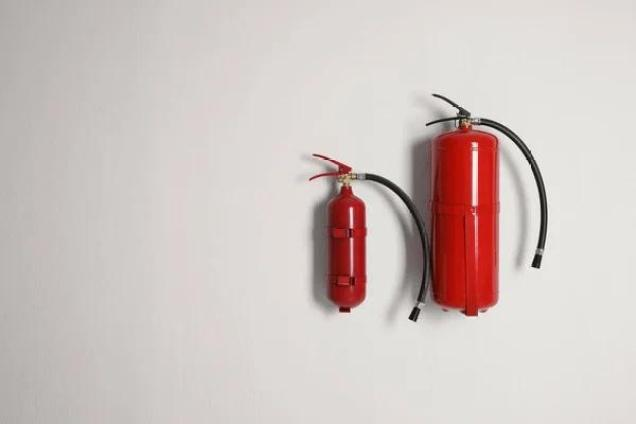APAR: (426, 91, 500, 317), (309, 152, 366, 313)
